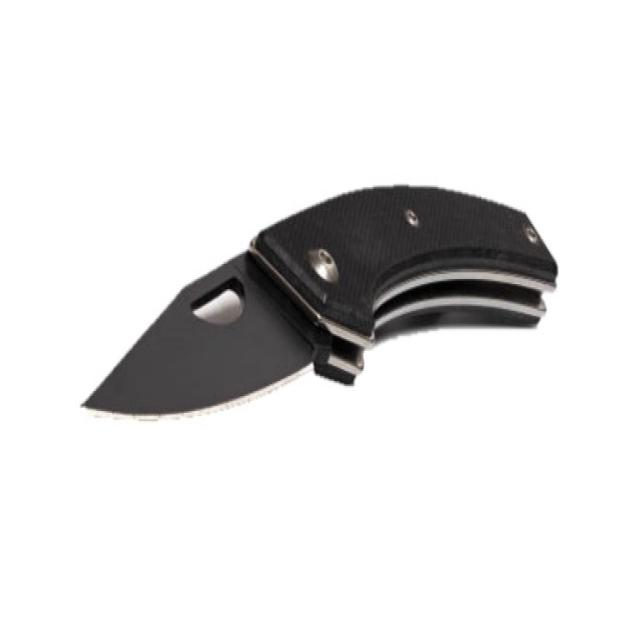knife: (81, 180, 572, 438)
